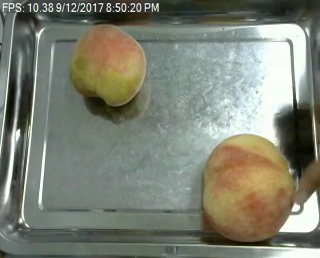Peach: (201, 132, 294, 242), (69, 23, 146, 106)
